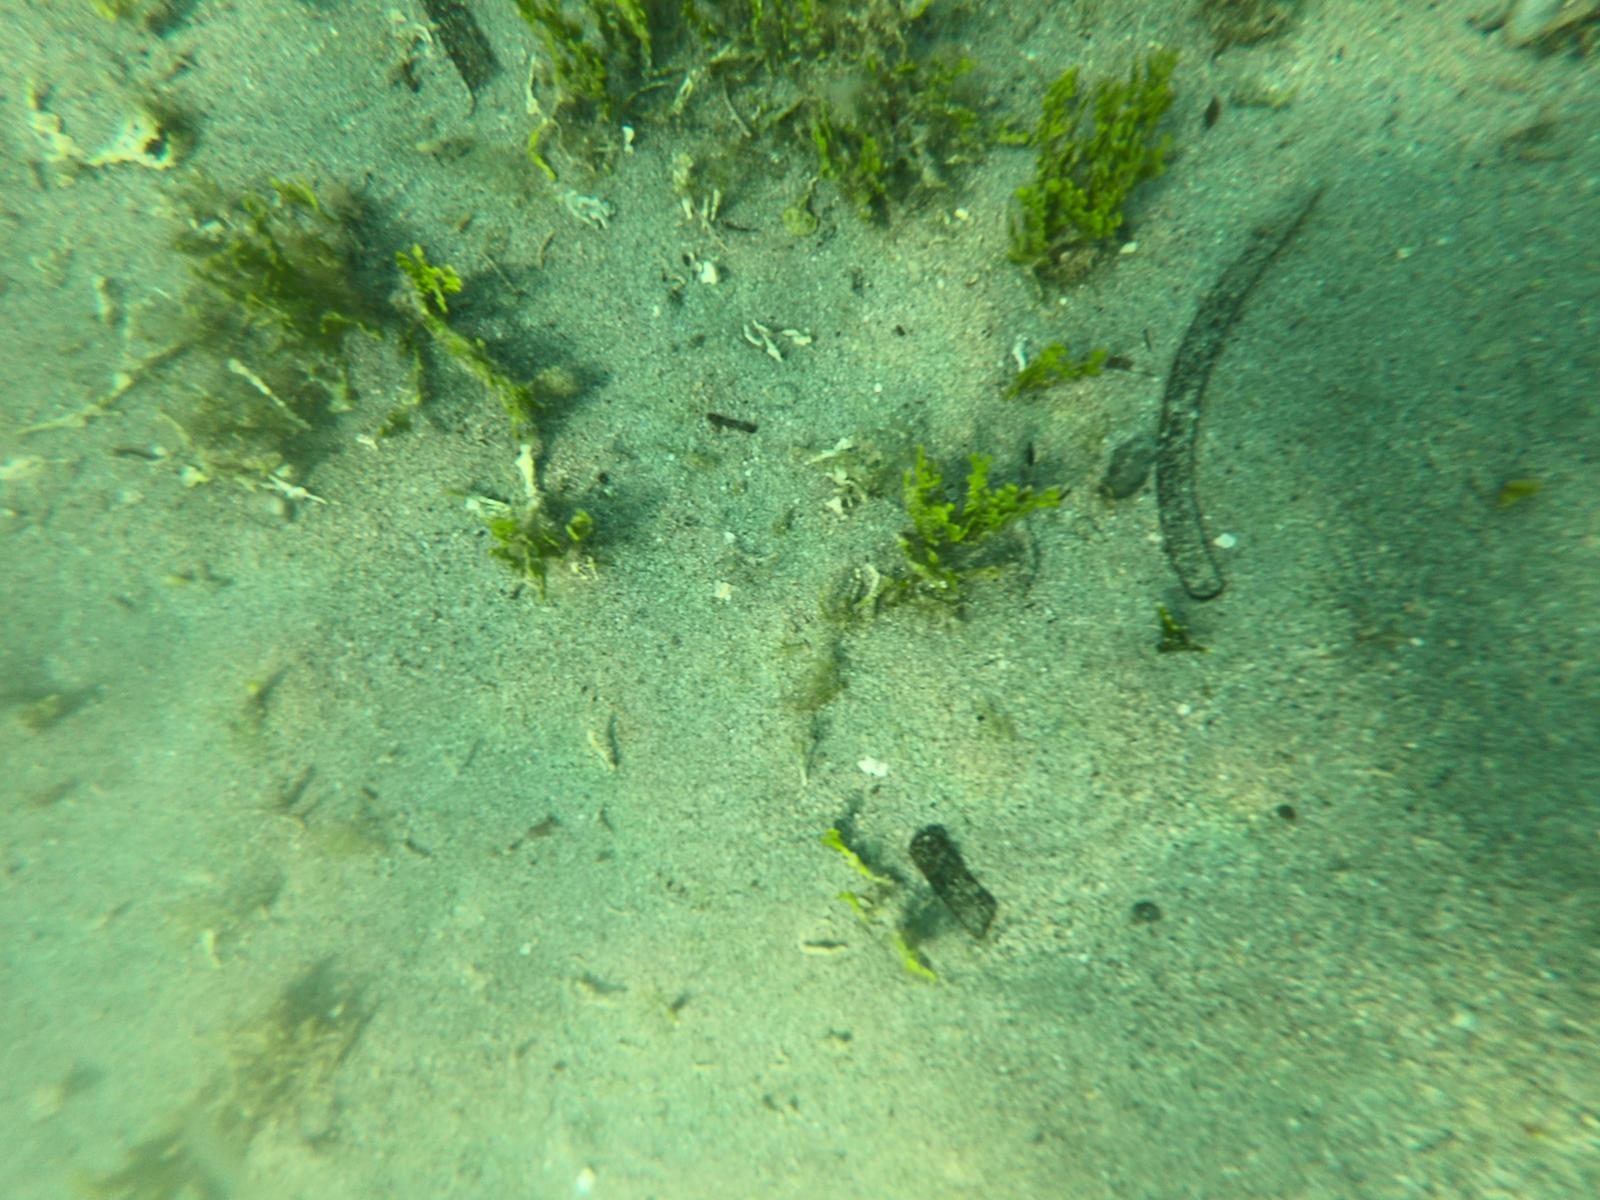halimeda: (1015, 52, 1180, 274), (891, 450, 1060, 603), (193, 204, 350, 361), (824, 64, 994, 193), (535, 1, 658, 113), (694, 1, 830, 89), (477, 503, 598, 589), (465, 345, 556, 430), (1010, 328, 1107, 400), (386, 242, 464, 316)
